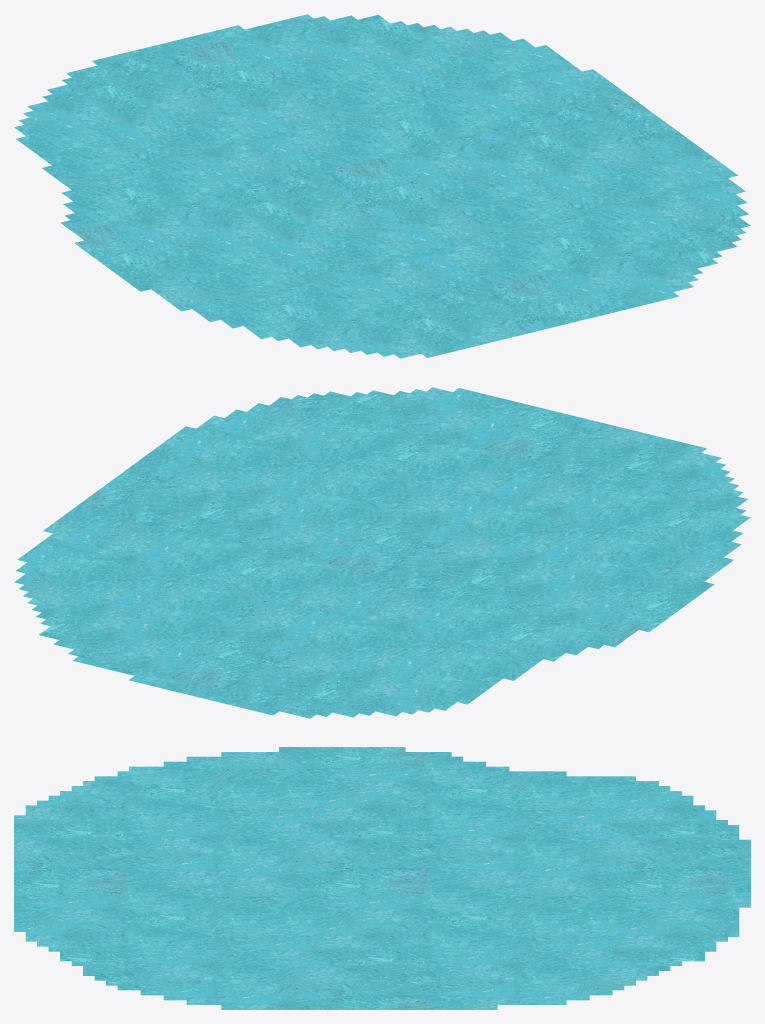
The model's file is waterSurface.obj.
3 renders of one model, top to bottom at view 1: azimuth 30°, elevation 25°; view 2: azimuth 150°, elevation 25°; view 3: azimuth 270°, elevation 25°, orthographic. The views are drawn at different scales.
Visible parts, largest first — view 1: Water_Plane.001; view 2: Water_Plane.001; view 3: Water_Plane.001.
Part boxes in pixels (left/top/right/bottom): Water_Plane.001: left=14, top=14, right=750, bottom=358; Water_Plane.001: left=14, top=387, right=750, bottom=718; Water_Plane.001: left=14, top=747, right=750, bottom=1009.
Bounding box in the file's own units: 23.01 × 0 × 27.27.
